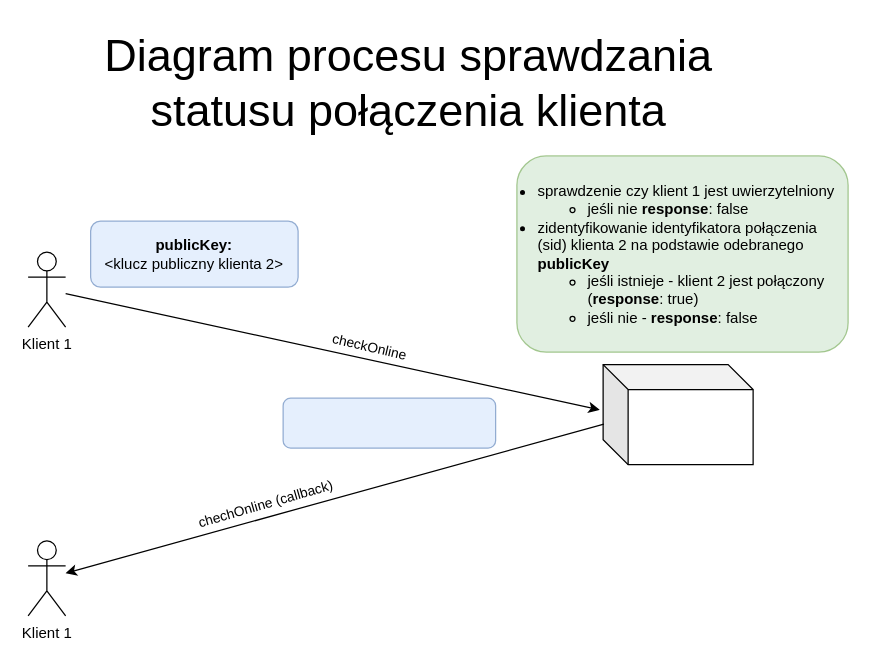
The diagram is 870 pixels wide and 664 high, and some of its shapes have lost their labels. Here are the shapes that lost their labels. From the top down, the centre of each, then its label:
At point 389,422: "response: true / false".
At point 677,414: "Serwer".
